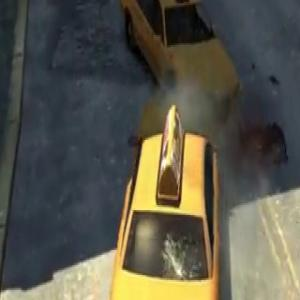low_impact: (99, 0, 243, 300)
